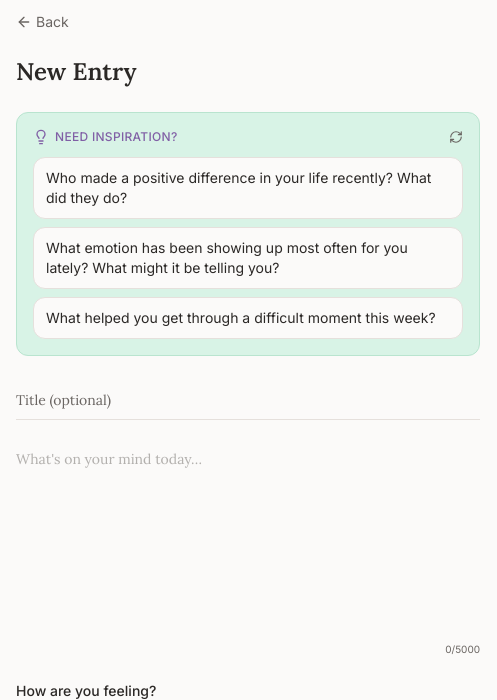
JournalEditor › enables save button when content is entered
The width and height of the screenshot is (497, 700).
Step 1. Type "Today I felt hopeful" into the text box with placeholder "What's on your mind today…" → (248,536), box [16,436,480,636]
(page scrolled)
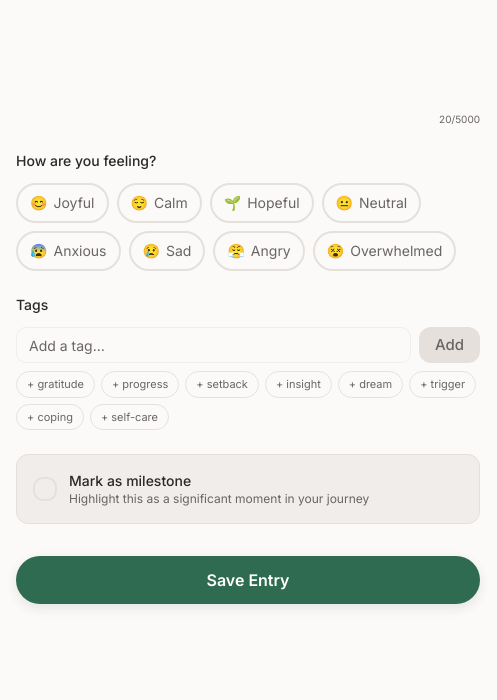
Check: the button "Save Entry" is enabled, box [16,556,480,604]
